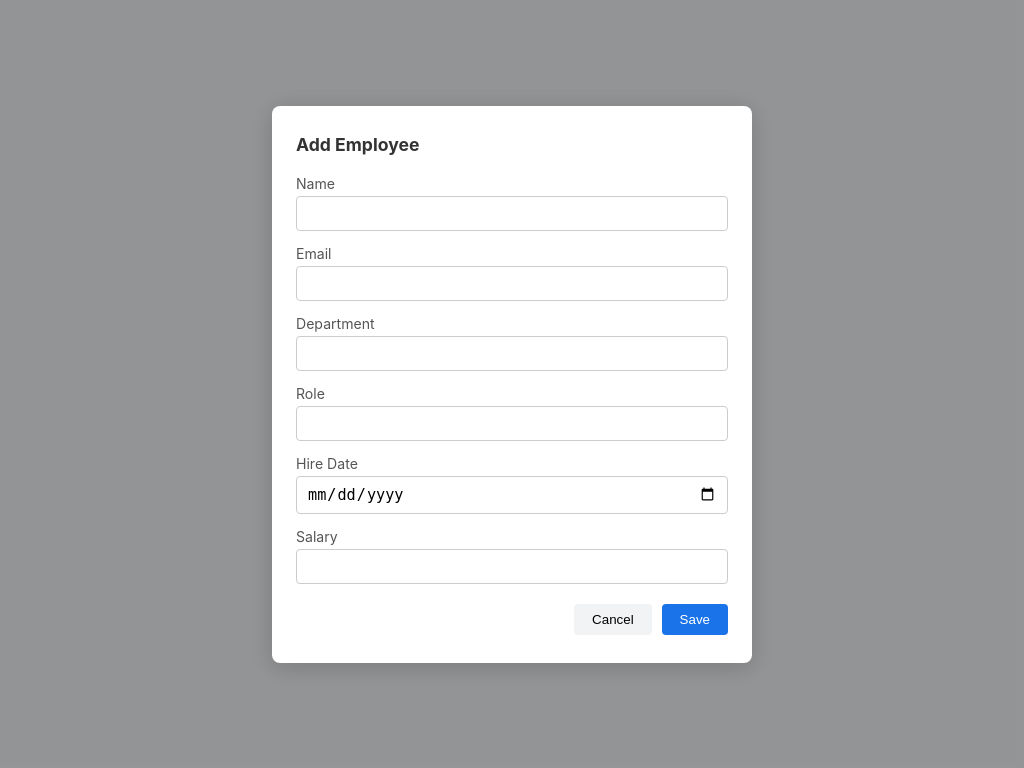
Test: EmployeeForm › shows validation errors for empty fields
Click the button "Save" at (695,619), box [662,604,728,634]
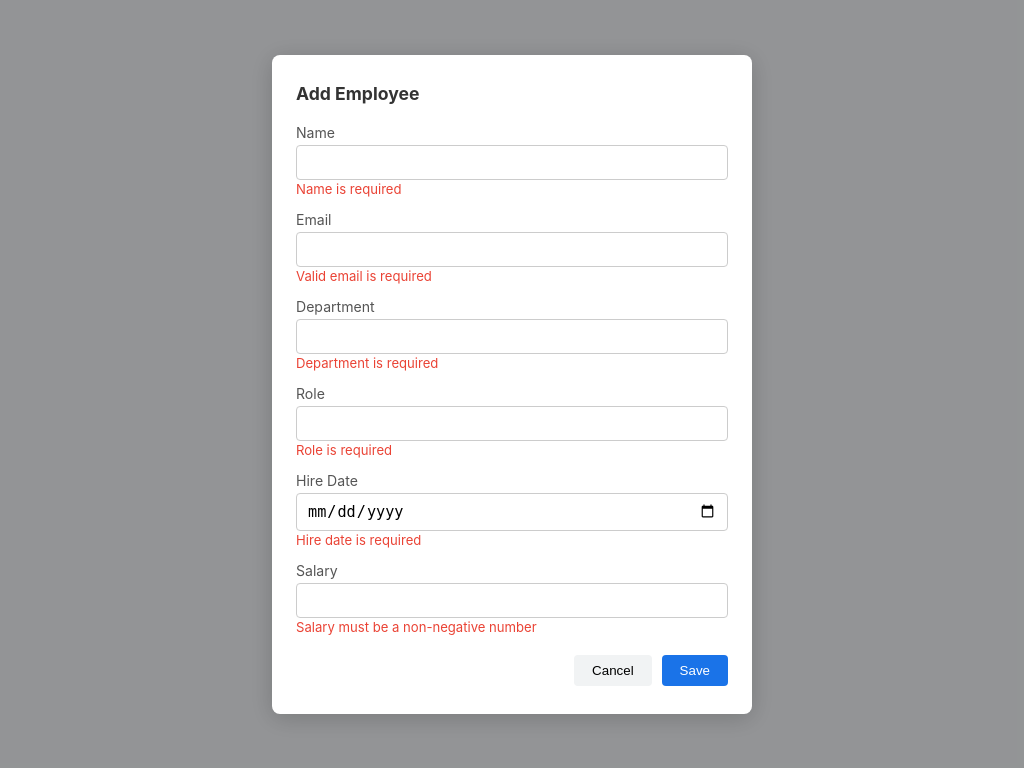
Expected: the text "Name is required" is shown, [296,180,402,196]
Expected: the text "Valid email is required" is shown, [296,268,432,284]
Expected: the text "Department is required" is shown, [296,354,438,370]
